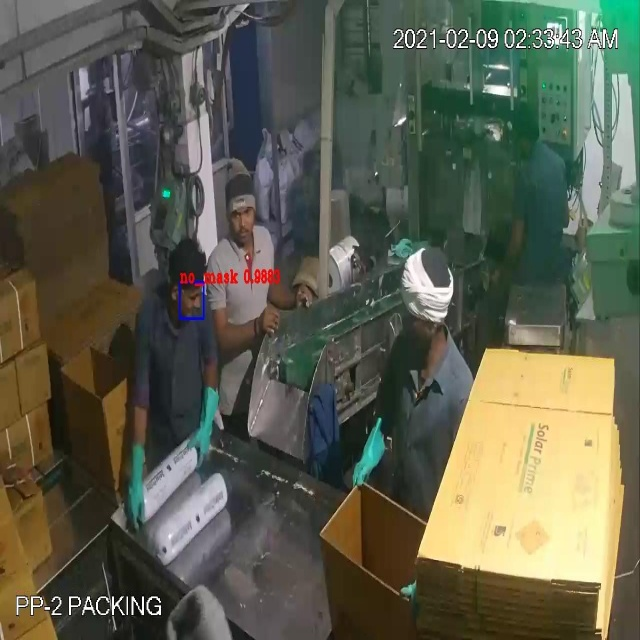Guantes: (344, 419, 397, 511), (114, 434, 153, 537), (180, 380, 221, 473)
Sin_guantes: (478, 202, 530, 301), (211, 292, 284, 362), (259, 267, 316, 321)
